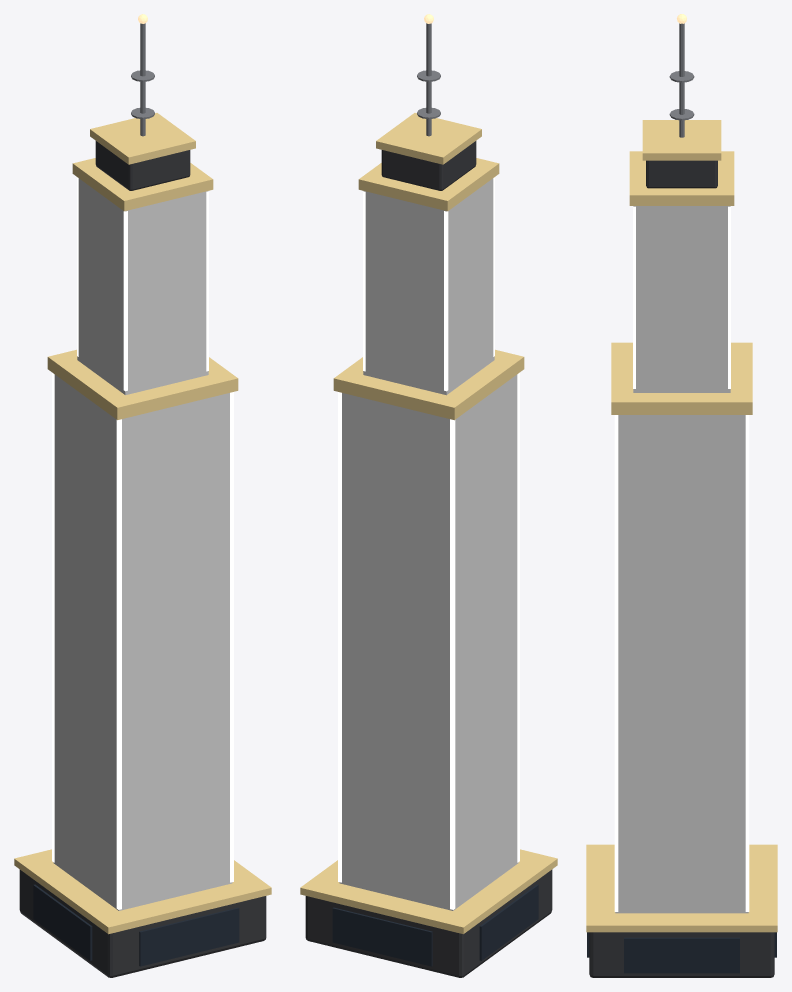
File: dt_bld_tower.fbx
3 renders of one model, left to right at view 1: azimuth 30°, elevation 25°; view 2: azimuth 150°, elevation 25°; view 3: azimuth 270°, elevation 25°, orthographic.
Parts seen in each view (by area): view 1: facade_1, gold_1, concrete_1, neoncyan_1, glass_1, steel_1; view 2: facade_1, gold_1, concrete_1, neoncyan_1, glass_1, steel_1; view 3: facade_1, gold_1, concrete_1, neoncyan_1, glass_1, steel_1.
Boxes of the visible parts, x1,y1,x2,y2 form: facade_1: (53, 178, 232, 910); gold_1: (14, 113, 271, 934); concrete_1: (19, 141, 266, 977); neoncyan_1: (52, 177, 233, 909); glass_1: (33, 884, 239, 966); steel_1: (131, 23, 154, 136); facade_1: (339, 178, 518, 910); gold_1: (300, 113, 557, 934); concrete_1: (305, 141, 552, 977); neoncyan_1: (338, 177, 519, 909); glass_1: (332, 884, 538, 966); steel_1: (417, 23, 440, 136); facade_1: (615, 206, 748, 913); gold_1: (586, 120, 777, 932); concrete_1: (589, 160, 774, 977); neoncyan_1: (614, 206, 749, 911); glass_1: (587, 932, 776, 973); steel_1: (669, 23, 694, 137).
Size of the model in its own units: 1.65 by 8.81 by 1.65.
